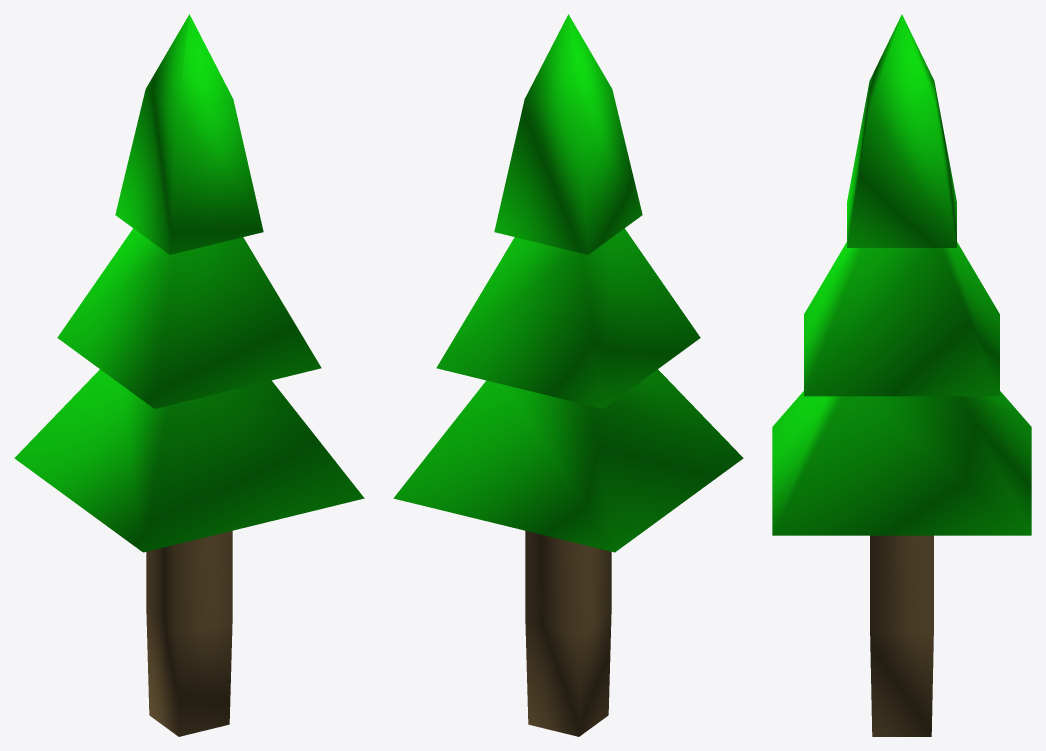
File: TreeLOD2.fbx
The picture shows the model from 3 angles, left to right: view 1: azimuth 30°, elevation 25°; view 2: azimuth 150°, elevation 25°; view 3: azimuth 270°, elevation 25°; orthographic projection.
Parts seen in each view (by area): view 1: HojasLOD2, troncoLOD2; view 2: HojasLOD2, troncoLOD2; view 3: HojasLOD2, troncoLOD2.
Boxes of the visible parts, left/top/right/bottom form: HojasLOD2: left=14, top=14, right=364, bottom=552; troncoLOD2: left=146, top=531, right=232, bottom=736; HojasLOD2: left=393, top=14, right=743, bottom=552; troncoLOD2: left=525, top=531, right=611, bottom=736; HojasLOD2: left=772, top=14, right=1031, bottom=535; troncoLOD2: left=870, top=535, right=933, bottom=736.
Size of the model in its own units: 193 by 588 by 195.
